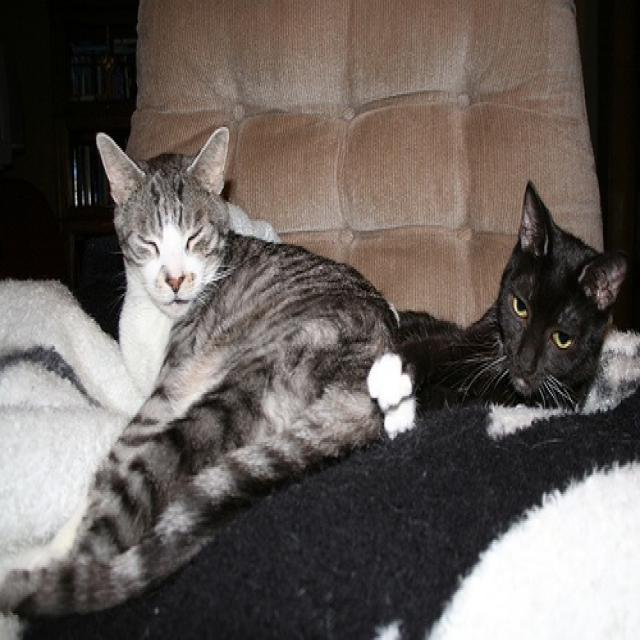cat: (0, 125, 392, 625), (365, 177, 627, 438)
